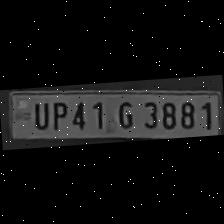1: (86, 97, 108, 130), (196, 98, 214, 132)
3: (136, 97, 160, 130)
4: (66, 98, 88, 131)
8: (160, 98, 181, 132), (176, 97, 197, 130)
G: (110, 96, 136, 130)
P: (46, 98, 68, 130)
U: (28, 98, 50, 130)
